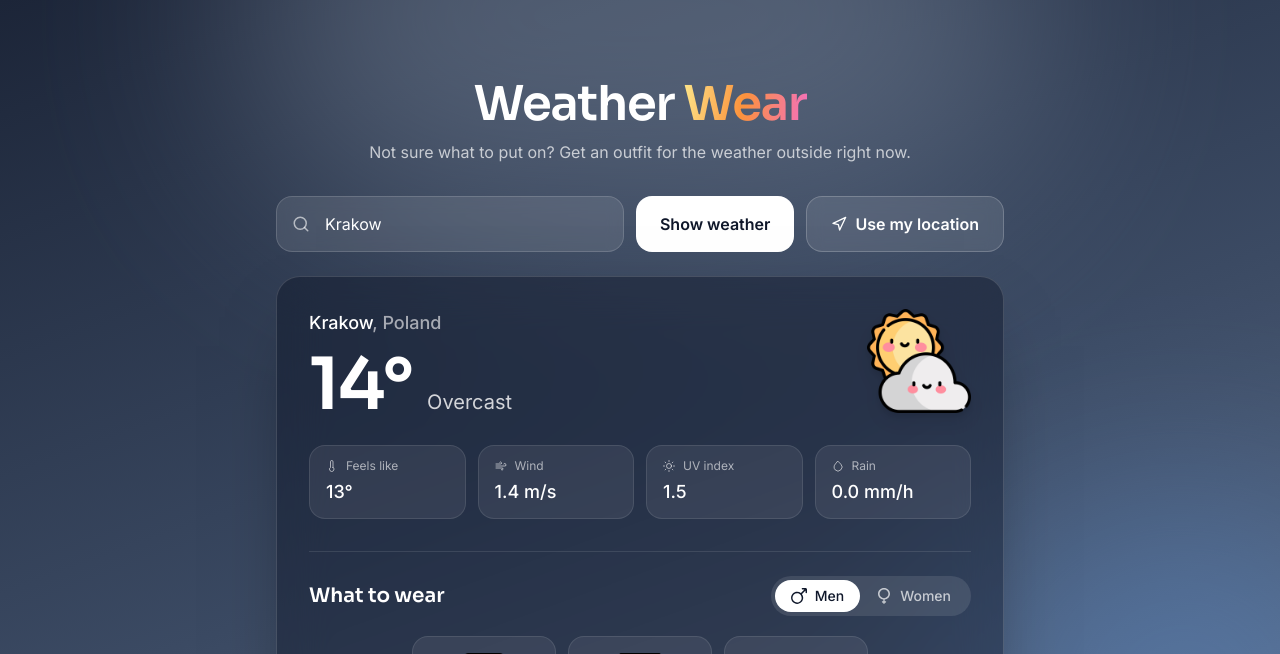
Scenario: keeps the previous result and explains an unknown city
The image size is (1280, 654).
expect the heading "Krakow, Poland" is shown: met, box [309,312,441,333]
Step 1. Replace the text in the field named "city" with "zzzz" → (450, 224), box [276,196,624,252]
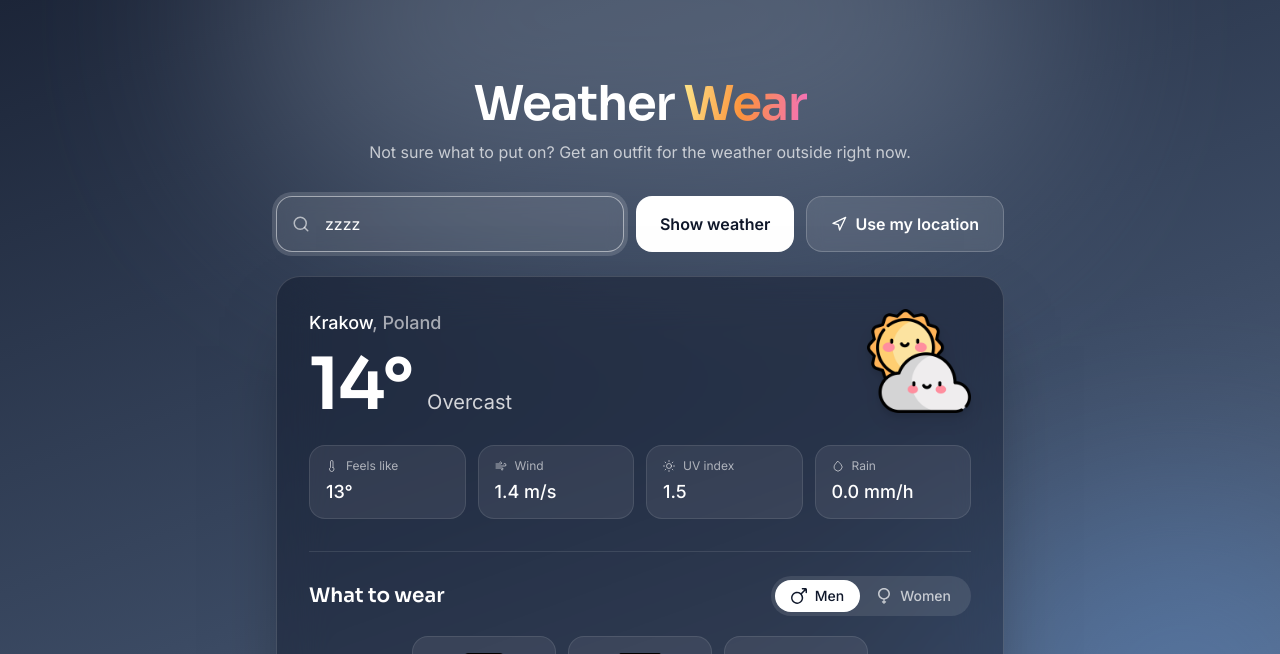
Step 2. Click the button "Show weather" → (715, 224), box [636,196,794,252]
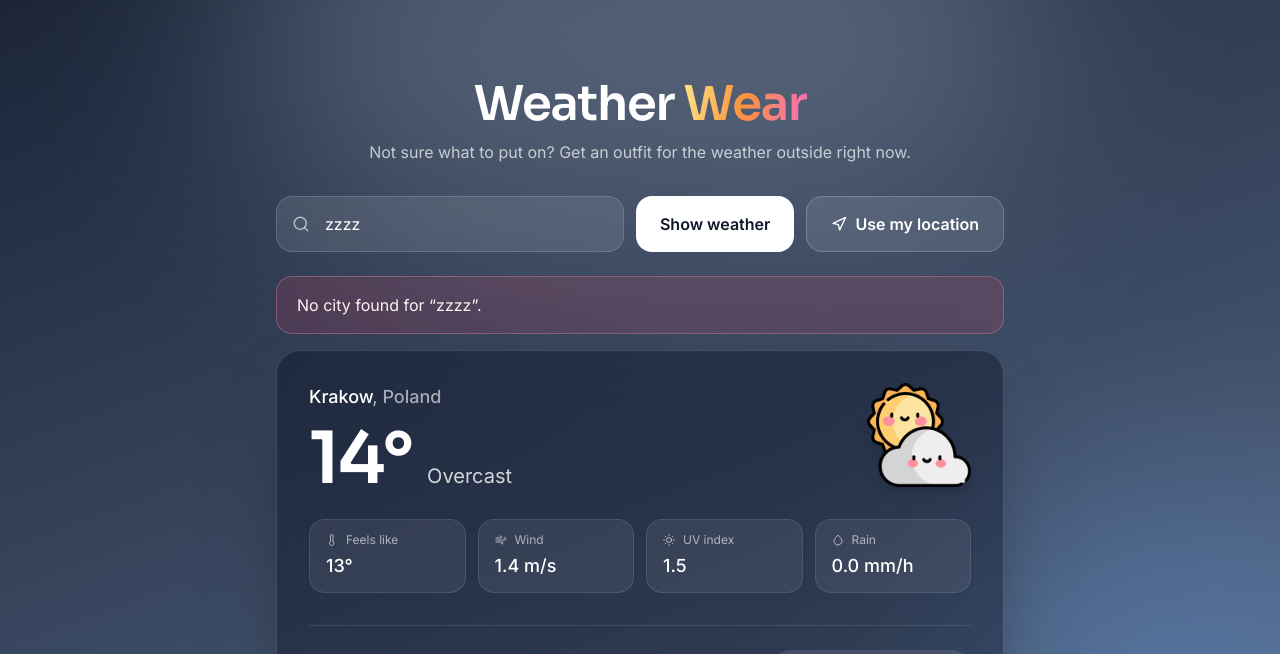
expect the heading "Krakow, Poland" is shown: met, box [309,386,441,407]
expect the message reads "No city found for “zzzz”.": met, box [297,295,482,315]
